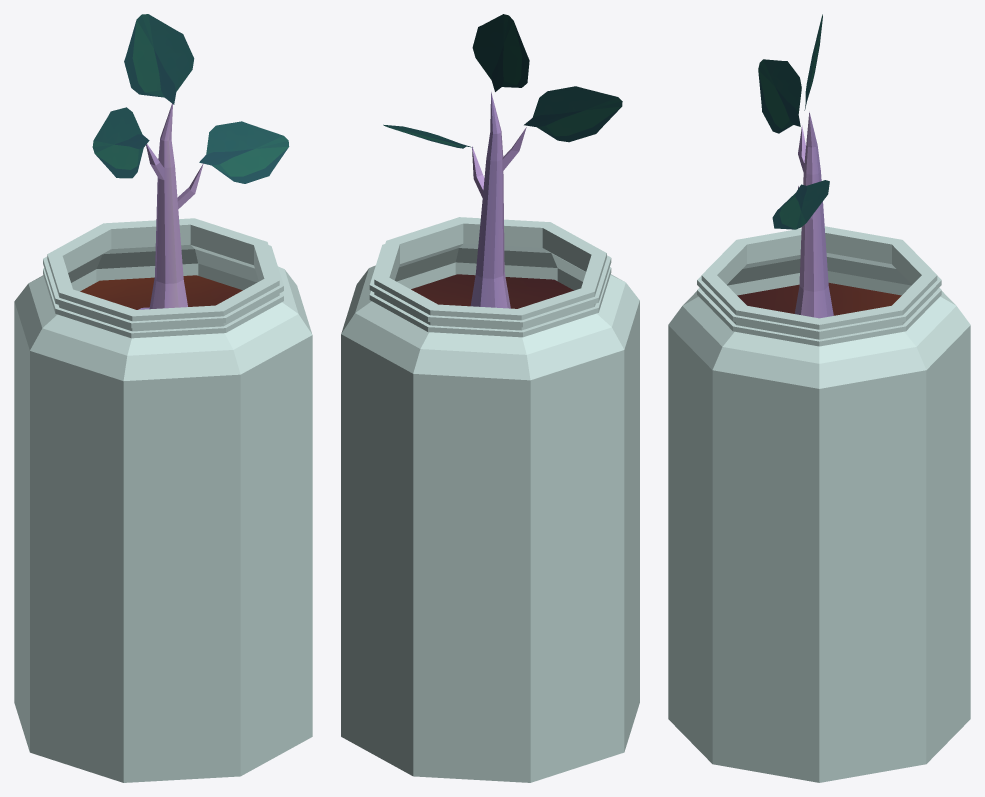
File: Garden_GlassJar01.fbx
3 renders of one model, left to right at view 1: azimuth 30°, elevation 25°; view 2: azimuth 150°, elevation 25°; view 3: azimuth 270°, elevation 25°, orthographic. The views are drawn at different scales.
Visible parts, largest first — view 1: Cylinder.213, Cylinder.216; view 2: Cylinder.213, Cylinder.216; view 3: Cylinder.213, Cylinder.216.
Part boxes in pixels (<box>): Cylinder.213: <box>14,218,312,782</box>; Cylinder.216: <box>92,14,289,309</box>; Cylinder.213: <box>341,217,639,782</box>; Cylinder.216: <box>383,14,622,308</box>; Cylinder.213: <box>668,226,970,782</box>; Cylinder.216: <box>758,14,833,318</box>.
Bounding box in the file's own units: 20.61 × 52.25 × 20.61.
